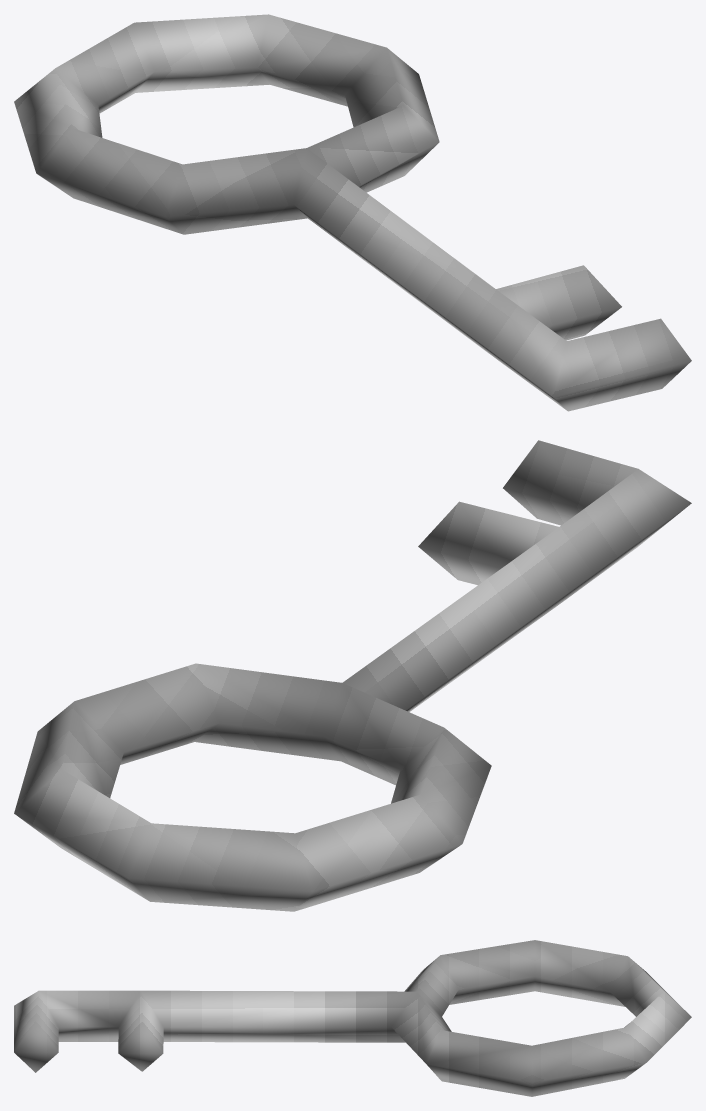
Rendered from key.obj.
The picture shows the model from 3 angles, top to bottom: view 1: azimuth 30°, elevation 25°; view 2: azimuth 150°, elevation 25°; view 3: azimuth 270°, elevation 25°; orthographic projection. The views are drawn at different scales.
Parts seen in each view (by area): view 1: Duplicate02; view 2: Duplicate02; view 3: Duplicate02.
Part boxes in pixels (x1,y1,x2,y2): Duplicate02: [14, 14, 691, 411]; Duplicate02: [14, 440, 691, 911]; Duplicate02: [14, 940, 691, 1096].
Bounding box in the file's own units: 5.76 × 1.1 × 12.32.
